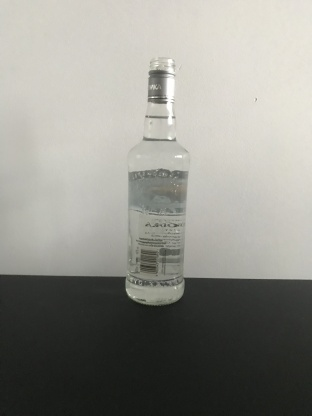nakretka: (145, 54, 177, 105)
